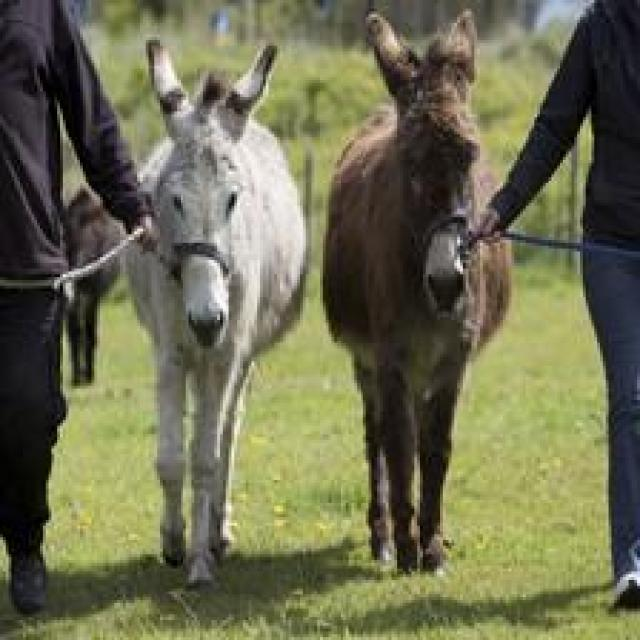Donkey: (320, 6, 511, 577), (120, 34, 309, 592), (60, 186, 126, 386)
